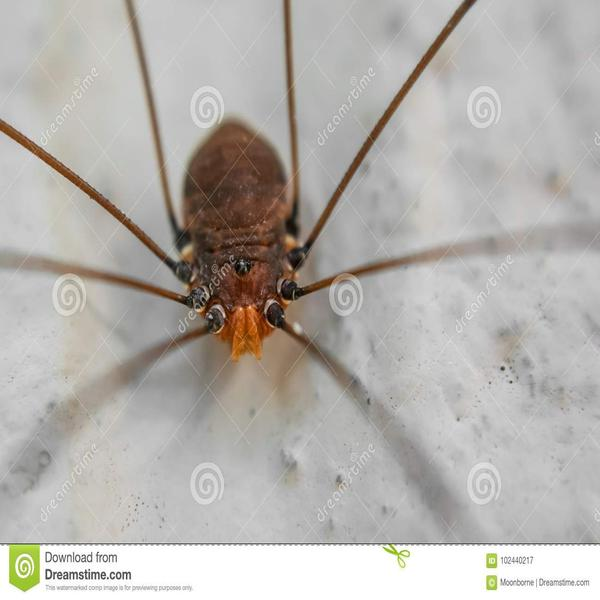Daddy Long Legs Spider: (6, 4, 593, 404)
